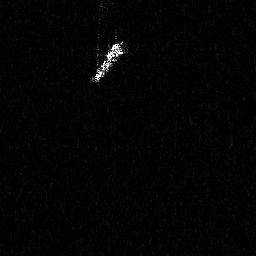ship: (89, 38, 130, 85)
